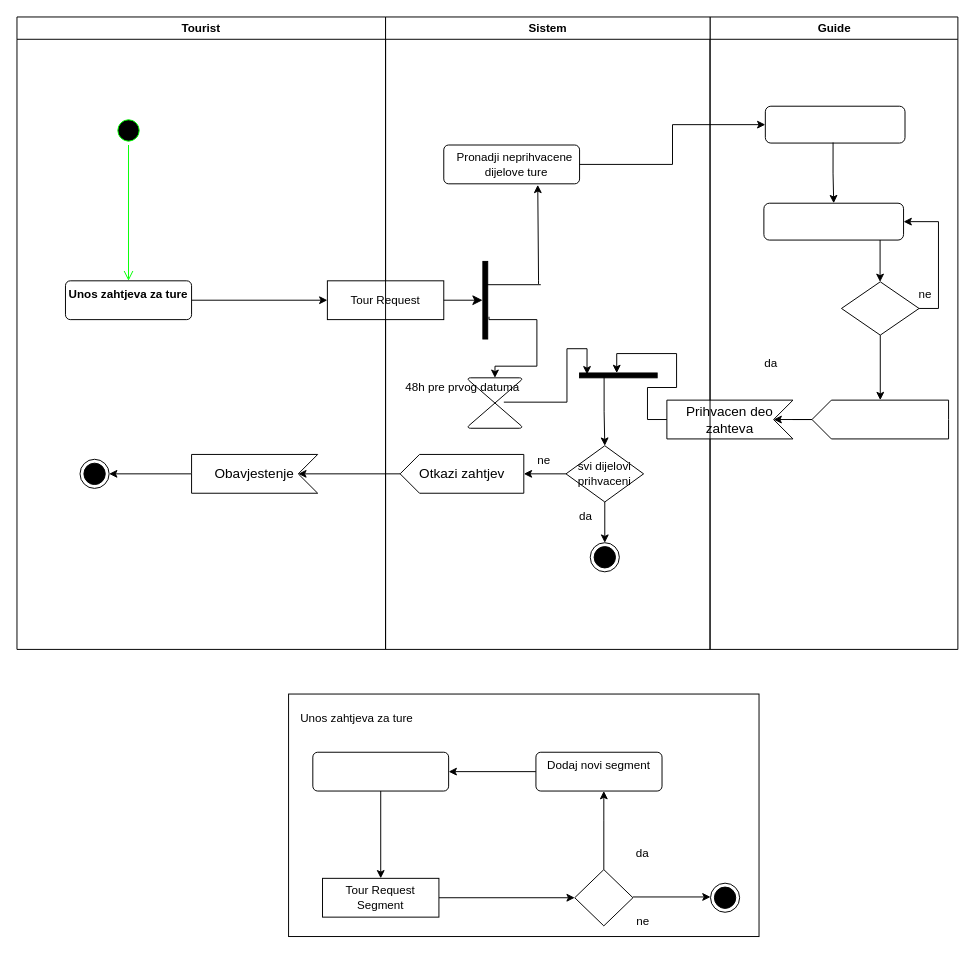
Some shapes in this 975 by 954 pixel diagram are drawn without their labels. The centre of each missing label's shape, as x and y in pixels:
dodaj segment: the point at 603,897
Izbor datuma: the point at 833,221
Izbor dela zahteva za slozenu turu: the point at 834,124
Prihvati deo zahteva: the point at 880,419
slobodan datum?: the point at 880,308
Unos podataka za segment: the point at 380,771
